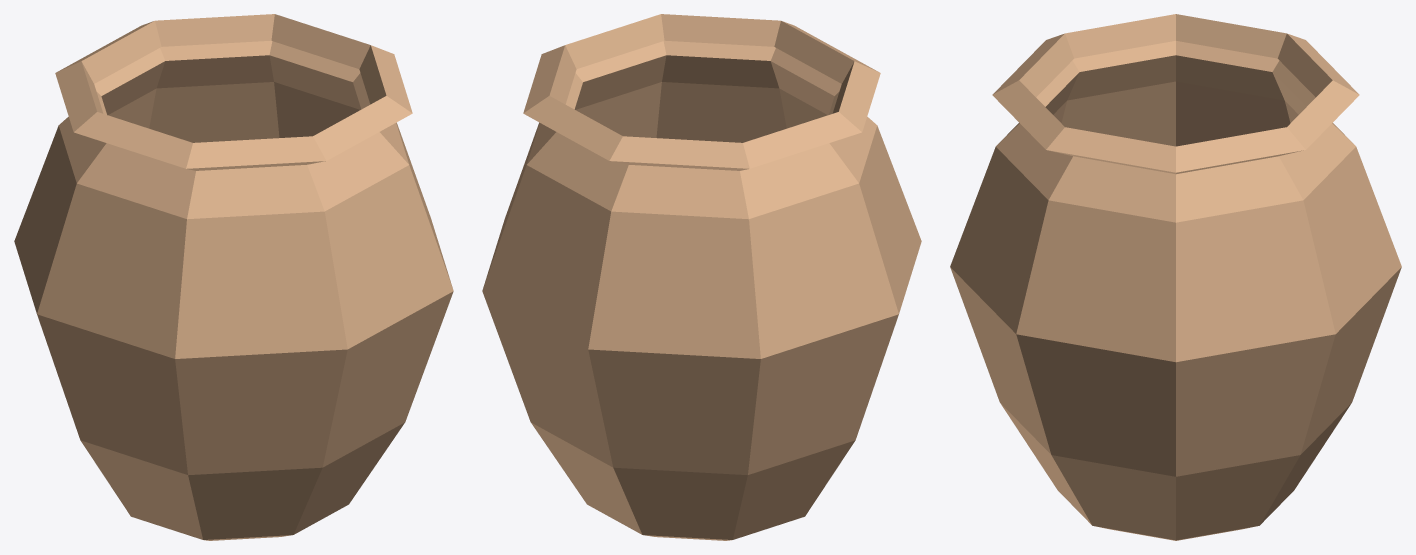
File: roman_pot_1.fbx
3 renders of one model, left to right at view 1: azimuth 30°, elevation 25°; view 2: azimuth 150°, elevation 25°; view 3: azimuth 270°, elevation 25°, orthographic.
Parts seen in each view (by area): view 1: Cylinder.008; view 2: Cylinder.008; view 3: Cylinder.008.
Boxes of the visible parts, x1,y1,x2,y2 form: Cylinder.008: (14, 14, 453, 540); Cylinder.008: (482, 14, 921, 540); Cylinder.008: (950, 14, 1401, 540).
Bounding box in the file's own units: 0.7698 × 0.792 × 0.7698.
